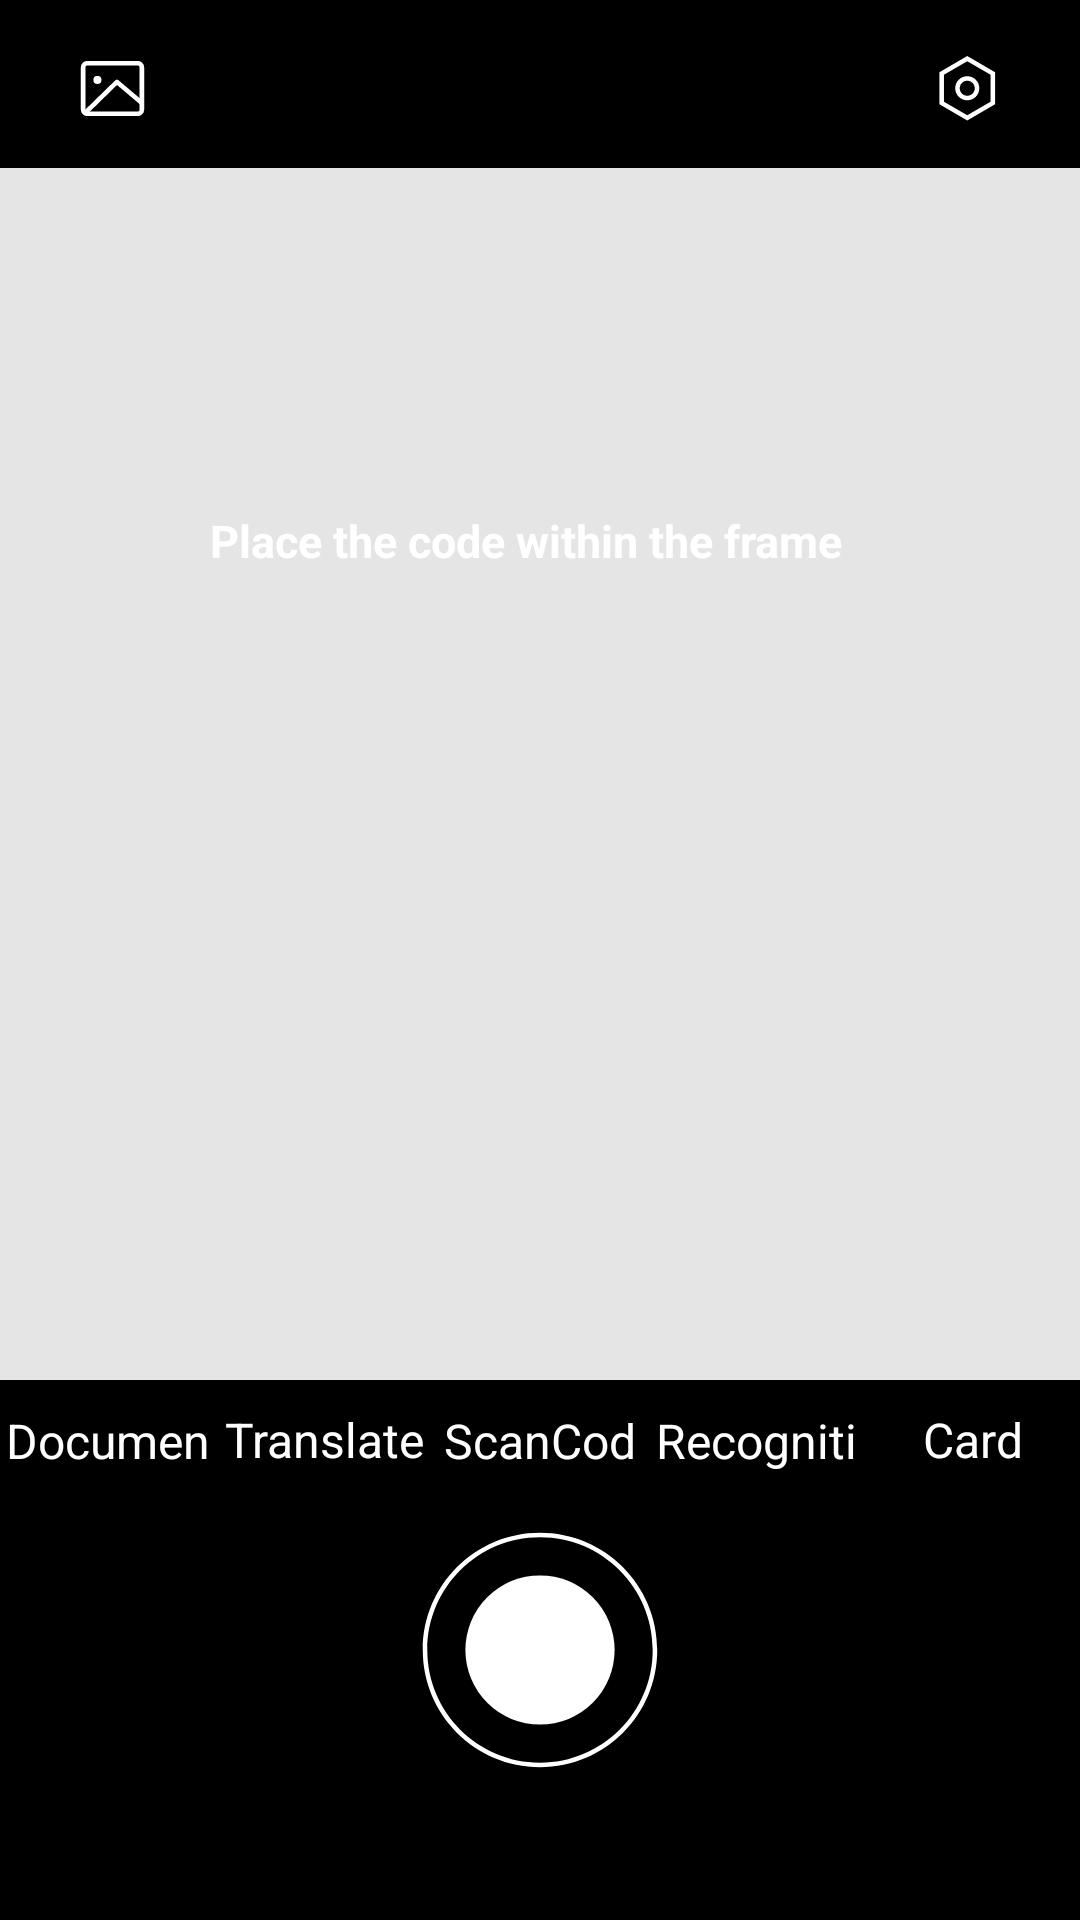

Icon bounding boxes for this 1080 x 1920 phone screenshot, format (x1, y1, x2, y2):
photo: (80, 61, 145, 116)
settings: (939, 56, 996, 121)
shot: (422, 1532, 658, 1768)
